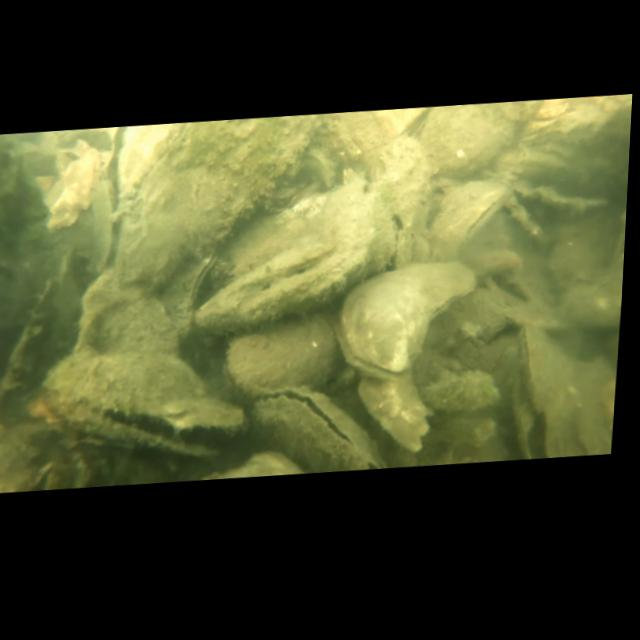Oyster-Closed: (111, 110, 319, 296), (328, 255, 477, 385), (191, 230, 367, 333), (220, 310, 340, 402), (427, 177, 513, 262), (511, 315, 571, 413), (158, 246, 218, 337)
Oyster-Indeterminate: (72, 261, 184, 367), (412, 99, 518, 181), (352, 367, 436, 460)
Oyster-Open: (37, 338, 249, 472), (246, 377, 394, 480), (504, 362, 565, 461)
